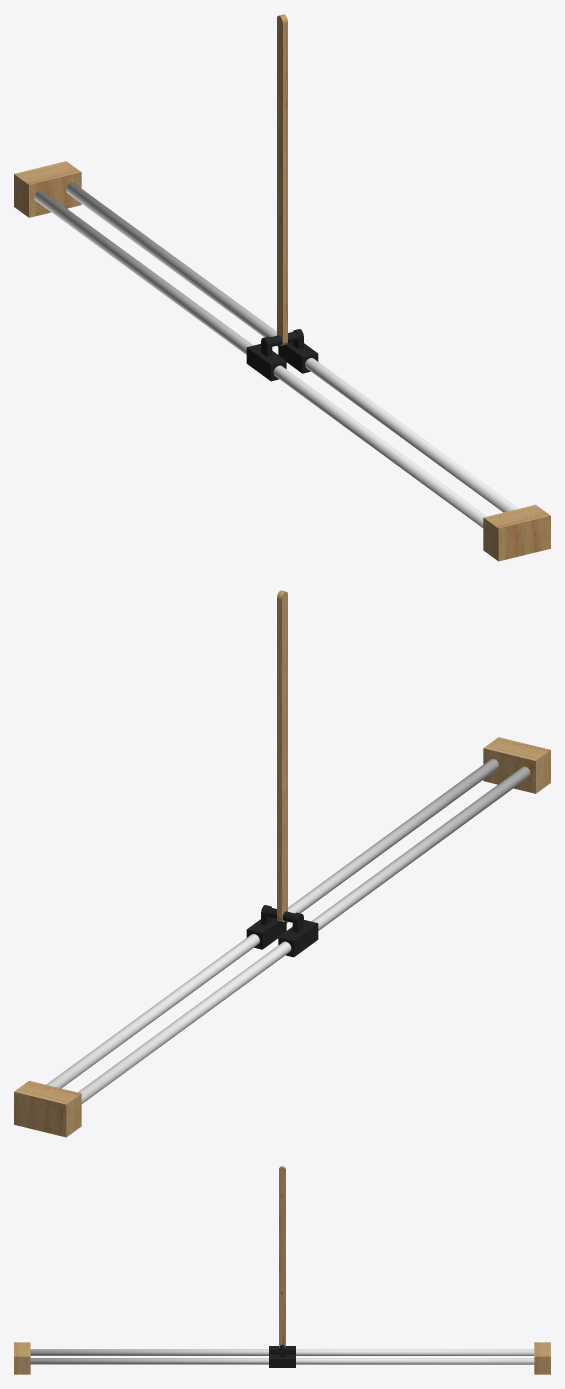
Rendered from pendulum_v4.glb.
The picture shows the model from 3 angles, top to bottom: view 1: azimuth 30°, elevation 25°; view 2: azimuth 150°, elevation 25°; view 3: azimuth 270°, elevation 25°; orthographic projection. The views are drawn at different scales.
Visible parts, largest first — view 1: track, rod, tracksup1, tracksup2, cart; view 2: track, rod, tracksup2, tracksup1, cart; view 3: track, rod, cart, tracksup1, tracksup2.
Part boxes in pixels (box(x1,y1,x2,y2)): track: box(34, 183, 518, 527); rod: box(277, 14, 287, 345); tracksup1: box(483, 504, 550, 561); tracksup2: box(14, 161, 81, 217); cart: box(246, 329, 318, 381); track: box(46, 759, 530, 1103); rod: box(277, 590, 287, 921); tracksup2: box(14, 1080, 81, 1137); tracksup1: box(483, 737, 550, 793); cart: box(246, 905, 318, 957); track: box(30, 1349, 534, 1364); rod: box(279, 1166, 285, 1347); cart: box(269, 1344, 295, 1367); tracksup1: box(14, 1342, 30, 1374); tracksup2: box(534, 1342, 550, 1374).
Size of the model in its own units: 0.05 by 0.33 by 0.8.
Materials: 5 (3 with a texture image).
